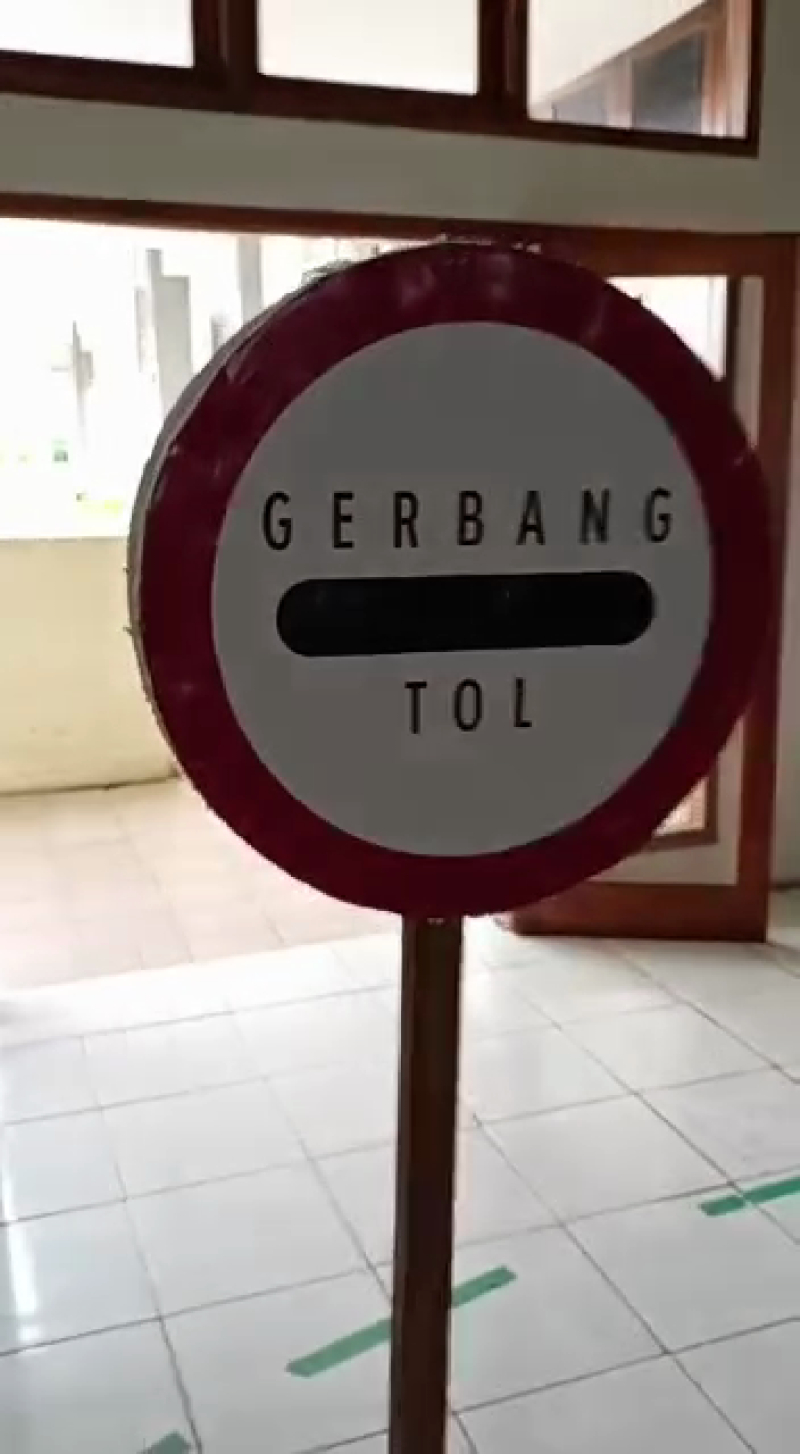gerbang tol: (120, 232, 788, 918)
